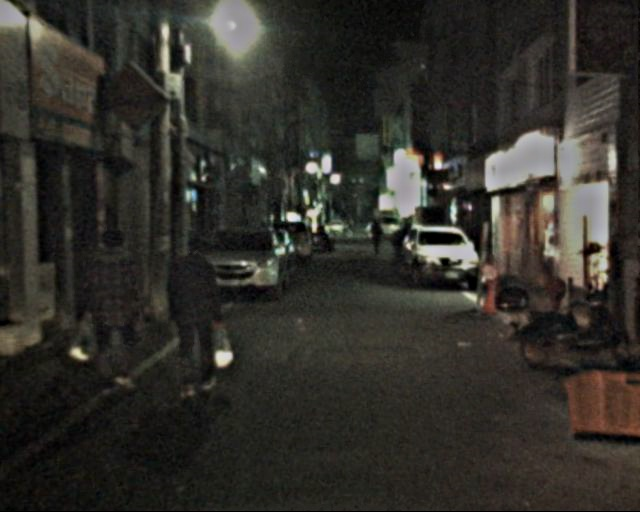person: (81, 225, 147, 391), (160, 236, 227, 399), (366, 221, 383, 258)
